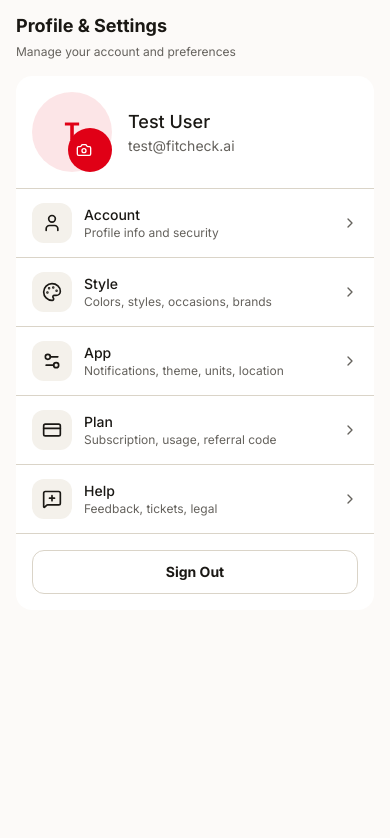
ProfilePage mobile drill-down (<md, no matchMedia) › closes the subpage with Escape
The width and height of the screenshot is (390, 838).
Click the button "Style Colors, styles, occasions, brands" at (195, 292), box top-left (16, 258), bottom-right (374, 326)
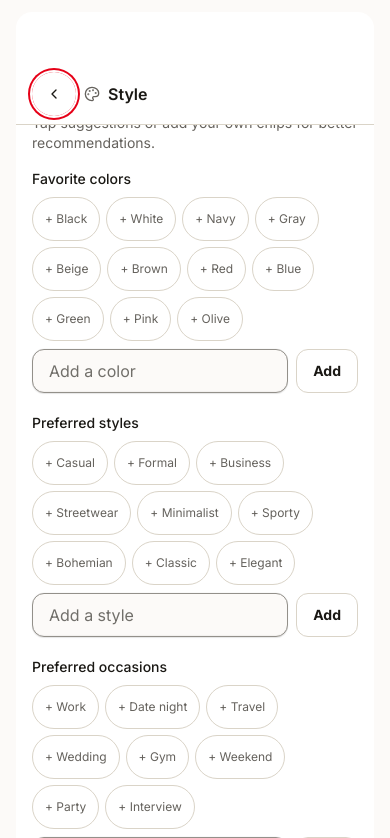
Press Escape
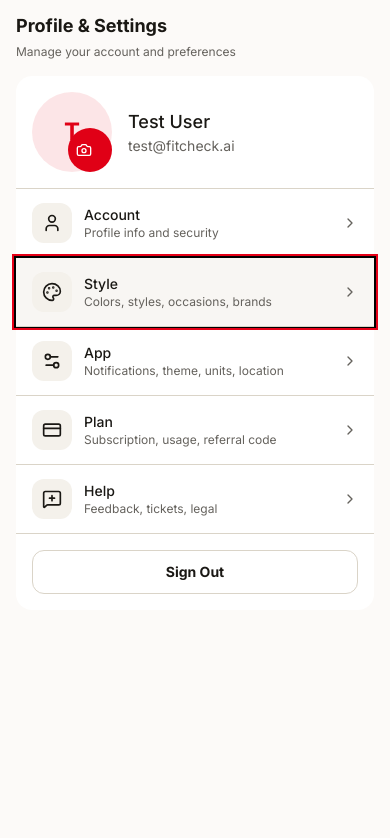
Expected: the navigation bar named "Profile sections" is shown, top-left (16, 189), bottom-right (374, 533)
